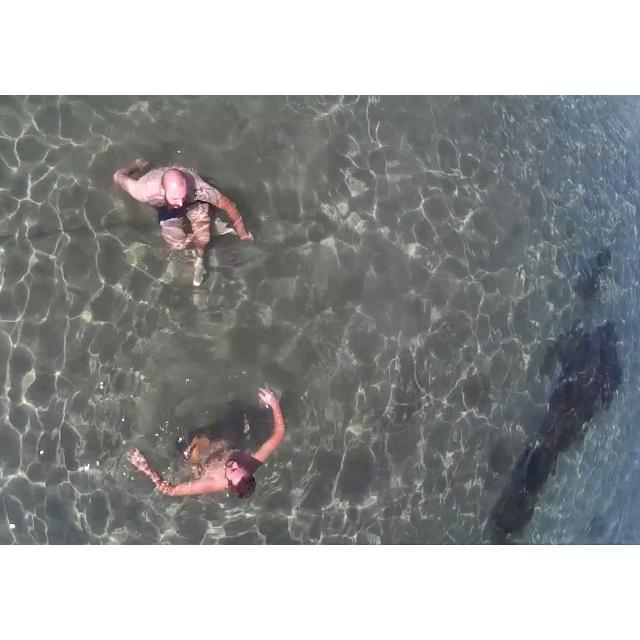human: (122, 377, 306, 522), (102, 139, 247, 272)
